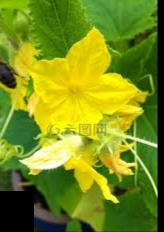cucumber_plant: (19, 23, 147, 229)
